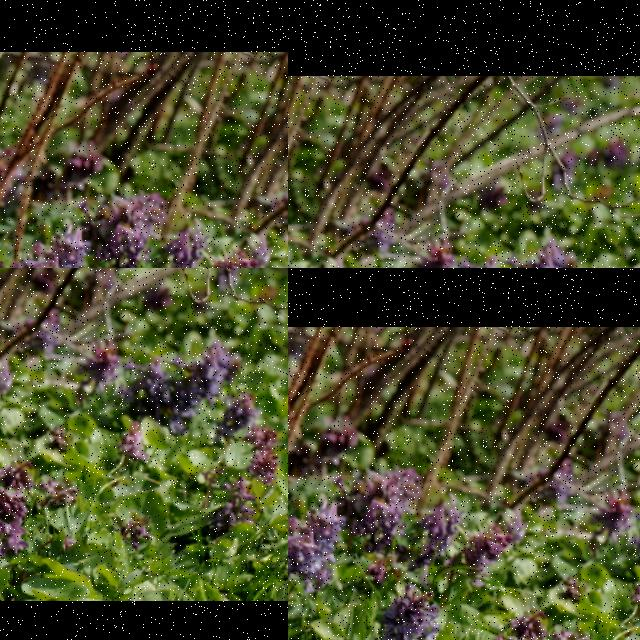flower: (0, 352, 41, 471), (216, 148, 258, 240), (100, 256, 165, 268)
